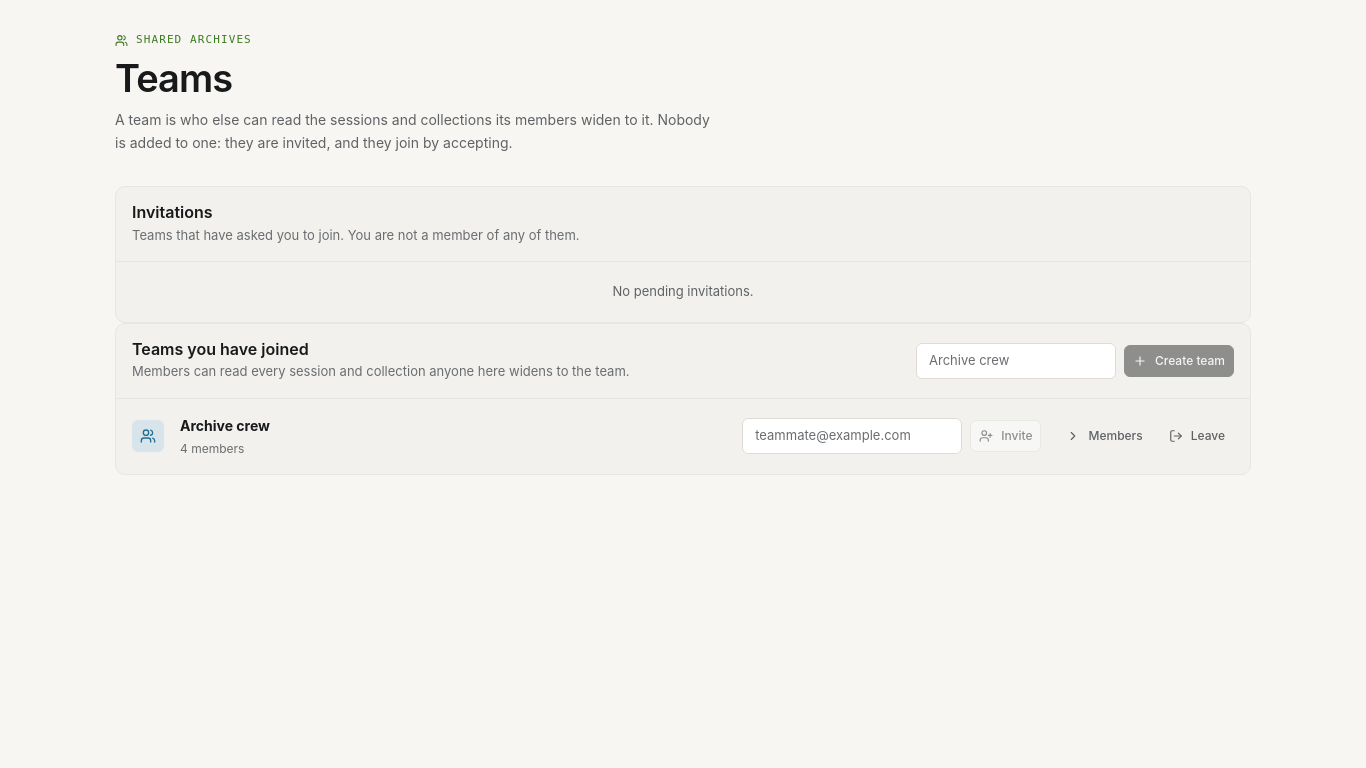
it: a team's roster › tells an invitation apart from a membership on the roster
What coordinates should you click on to do the following:
click the button "Members"
I would click on:
 (1105, 436)
Its box is [1058,420,1152,452].
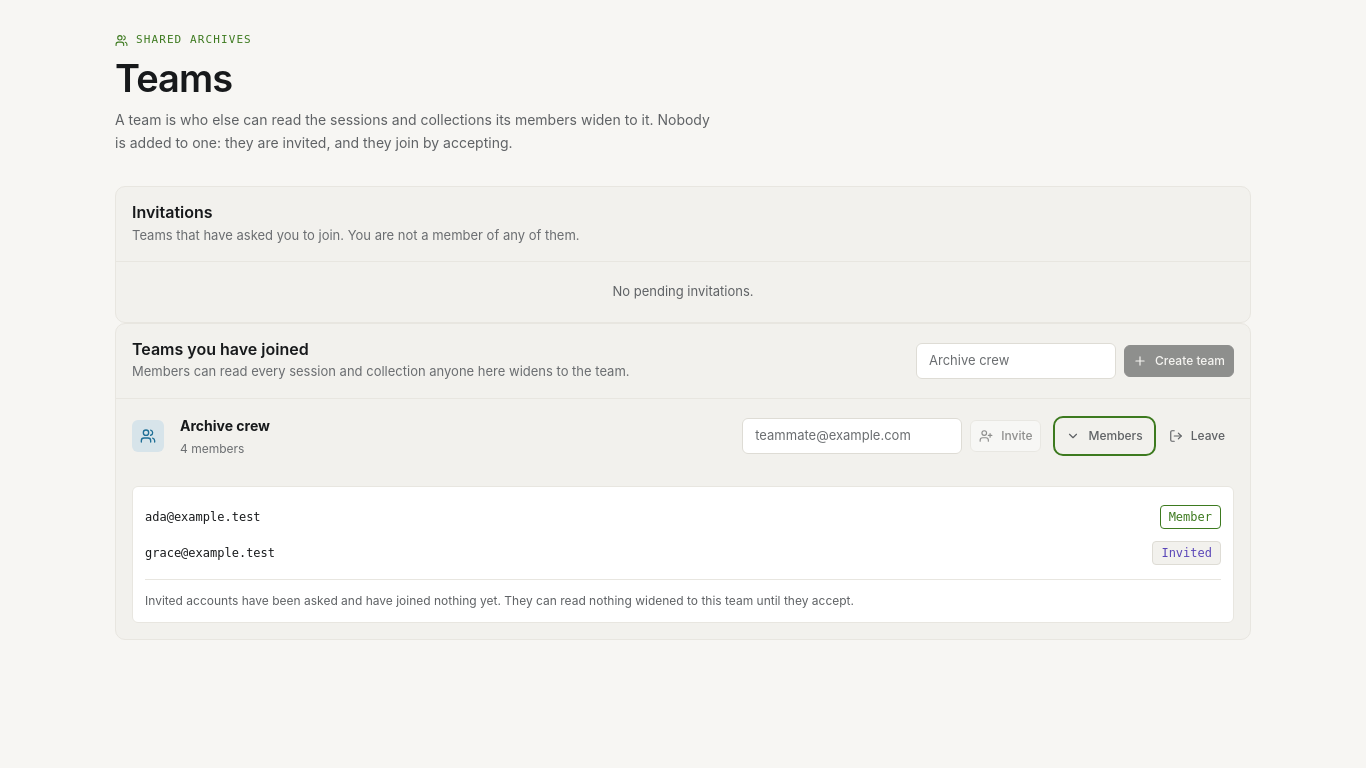
Result: the text "Member" is shown at [1160,505,1221,529]
Result: the text "Invited" is shown at [1152,541,1221,565]
